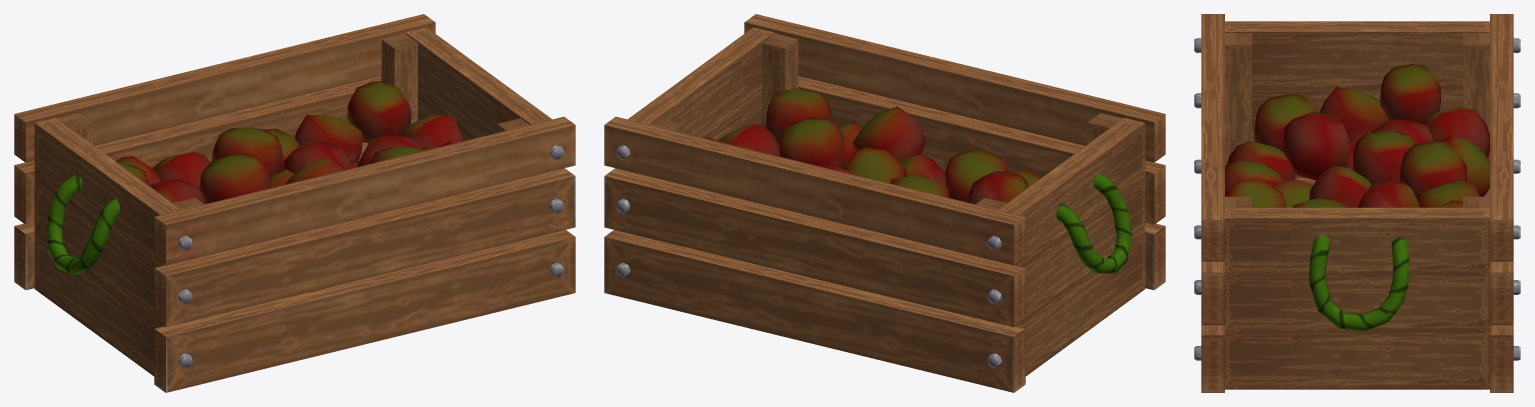
Rendered from farm_crate_apple.glb.
The picture shows the model from 3 angles, left to right: view 1: azimuth 30°, elevation 25°; view 2: azimuth 150°, elevation 25°; view 3: azimuth 270°, elevation 25°; orthographic projection. The views are drawn at different scales.
Parts seen in each view (by area): view 1: FarmCrate_Apple; view 2: FarmCrate_Apple; view 3: FarmCrate_Apple.
Part boxes in pixels (x1,y1,x2,y2): FarmCrate_Apple: (14,14,575,392); FarmCrate_Apple: (604,14,1165,392); FarmCrate_Apple: (1194,14,1520,392).
Bounding box in the file's own units: 0.7138 × 0.2437 × 0.4142.
Materials: 3 (3 with a texture image).
